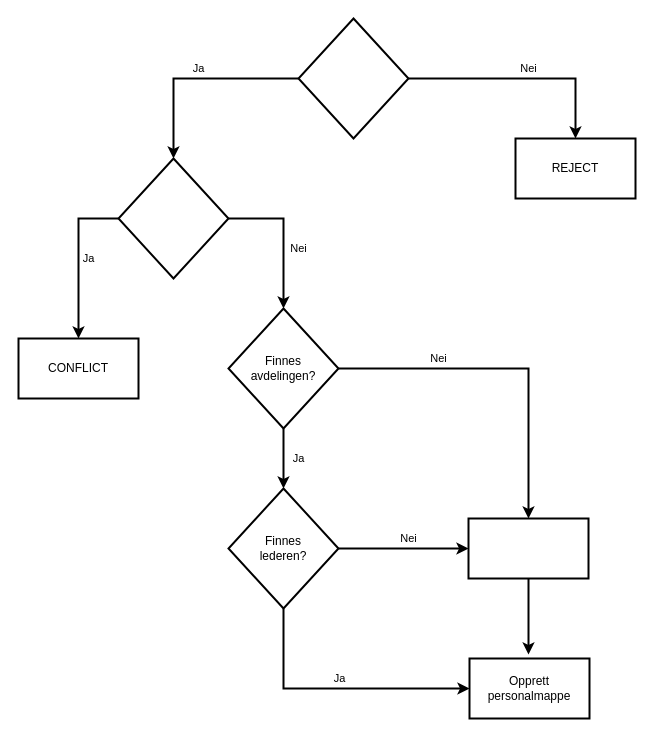
This 653x736 diagram has some shape labels left out. Each missing label, with the centre of its shape:
Alle data er med: point (353, 78)
Finnes mappen: point (173, 218)
Sett avdeling og saksbehandler til UFORDELT: point (528, 548)
